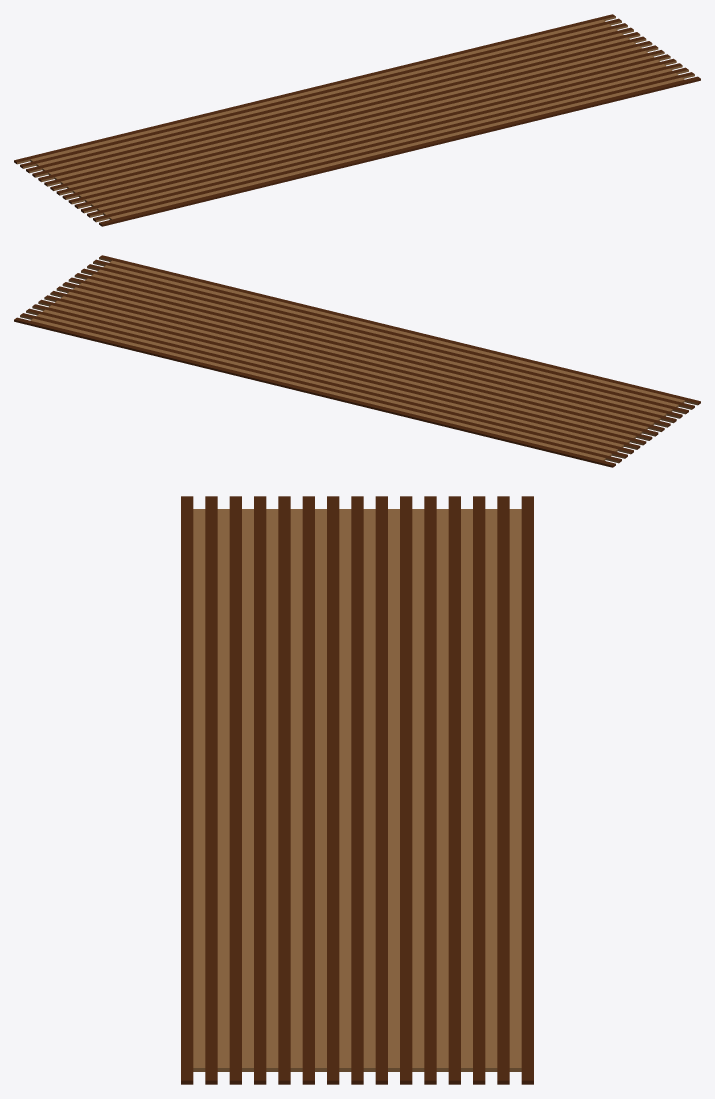
The model's file is shop_carpet.obj.
The picture shows the model from 3 angles, top to bottom: view 1: azimuth 30°, elevation 25°; view 2: azimuth 150°, elevation 25°; view 3: azimuth 270°, elevation 25°; orthographic projection. The views are drawn at different scales.
Parts seen in each view (by area): view 1: Cube; view 2: Cube; view 3: Cube.
Boxes of the visible parts, x1=… form: Cube: x1=14, y1=14, x2=700, y2=226; Cube: x1=14, y1=255, x2=700, y2=467; Cube: x1=181, y1=496, x2=533, y2=1084.
Size of the model in its own units: 13.4 by 0.0422 by 3.42.
